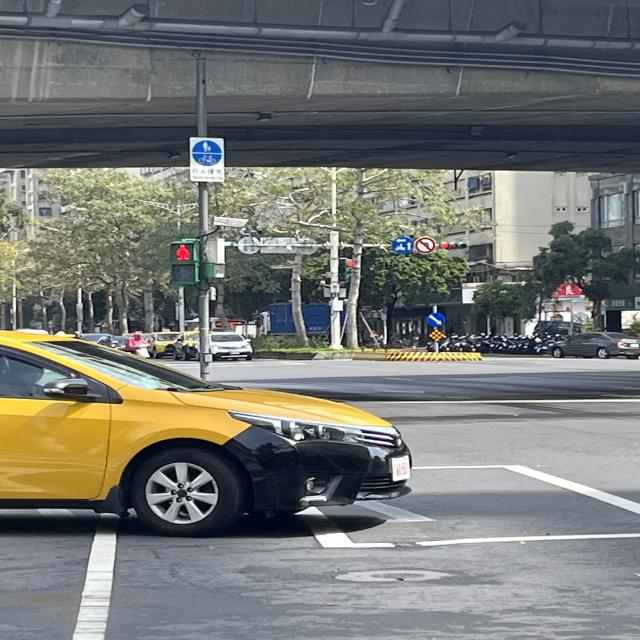red light: (171, 236, 197, 282), (340, 256, 358, 281), (438, 241, 470, 254)
